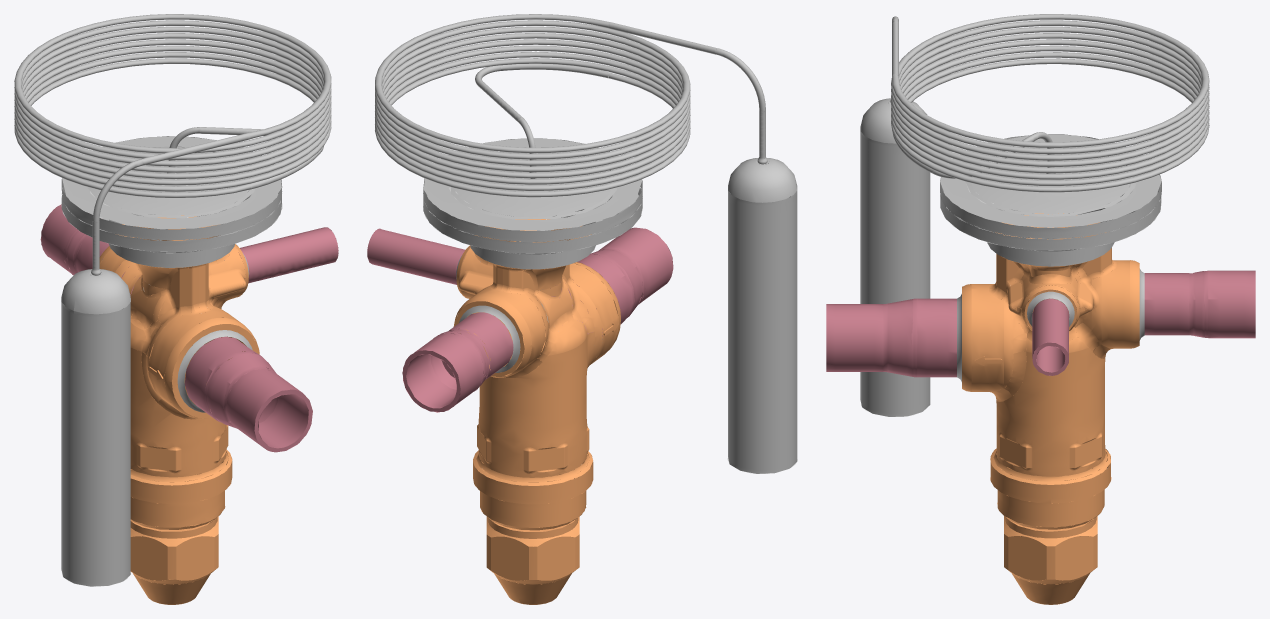
The model's file is 3dobj.glb.
3 renders of one model, left to right at view 1: azimuth 30°, elevation 25°; view 2: azimuth 150°, elevation 25°; view 3: azimuth 270°, elevation 25°, orthographic.
Visible parts, largest first — view 1: pHelix1, nurbsToPoly542, nurbsToPoly153, nurbsToPoly520, nurbsToPoly22, nurbsToPoly519, nurbsToPoly514, nurbsToPoly541, nurbsToPoly19, nurbsToPoly522, nurbsToPoly33, nurbsToPoly42 (+27 smaller); view 2: pHelix1, nurbsToPoly542, nurbsToPoly153, nurbsToPoly520, nurbsToPoly22, nurbsToPoly522, nurbsToPoly519, nurbsToPoly514, nurbsToPoly33, nurbsToPoly541, nurbsToPoly19, nurbsToPoly42 (+28 smaller); view 3: pHelix1, nurbsToPoly542, nurbsToPoly153, nurbsToPoly520, nurbsToPoly19, nurbsToPoly11, nurbsToPoly343, nurbsToPoly17, nurbsToPoly9, nurbsToPoly522, nurbsToPoly519, nurbsToPoly514 (+20 smaller).
Boxes of the visible parts, <box> form: pHelix1: <box>14,14,331,197</box>; nurbsToPoly542: <box>61,302,130,586</box>; nurbsToPoly153: <box>130,323,226,477</box>; nurbsToPoly520: <box>62,136,281,229</box>; nurbsToPoly22: <box>240,227,338,283</box>; nurbsToPoly519: <box>61,136,282,240</box>; nurbsToPoly514: <box>61,151,281,251</box>; nurbsToPoly541: <box>61,269,130,314</box>; nurbsToPoly19: <box>226,368,308,448</box>; nurbsToPoly522: <box>93,151,250,215</box>; nurbsToPoly33: <box>130,468,224,527</box>; nurbsToPoly42: <box>130,451,232,503</box>; pHelix1: <box>375,14,690,197</box>; nurbsToPoly542: <box>728,191,797,473</box>; nurbsToPoly153: <box>478,319,587,477</box>; nurbsToPoly520: <box>423,138,642,230</box>; nurbsToPoly22: <box>367,229,465,284</box>; nurbsToPoly522: <box>454,152,612,217</box>; nurbsToPoly519: <box>423,138,642,241</box>; nurbsToPoly514: <box>423,156,642,253</box>; nurbsToPoly33: <box>480,471,586,527</box>; nurbsToPoly541: <box>728,157,797,202</box>; nurbsToPoly19: <box>594,227,673,304</box>; nurbsToPoly42: <box>473,452,593,504</box>; pHelix1: <box>891,14,1209,192</box>; nurbsToPoly542: <box>860,126,930,416</box>; nurbsToPoly153: <box>996,310,1105,476</box>; nurbsToPoly520: <box>940,135,1161,227</box>; nurbsToPoly19: <box>826,304,883,371</box>; nurbsToPoly11: <box>1208,270,1255,338</box>; nurbsToPoly343: <box>971,284,1003,391</box>; nurbsToPoly17: <box>917,298,956,377</box>; nurbsToPoly9: <box>1144,273,1189,335</box>; nurbsToPoly522: <box>971,147,1130,214</box>; nurbsToPoly519: <box>940,134,1161,238</box>; nurbsToPoly514: <box>940,151,1161,250</box>.
Bounding box in the file's own units: 0.0802 × 0.1164 × 0.087.
